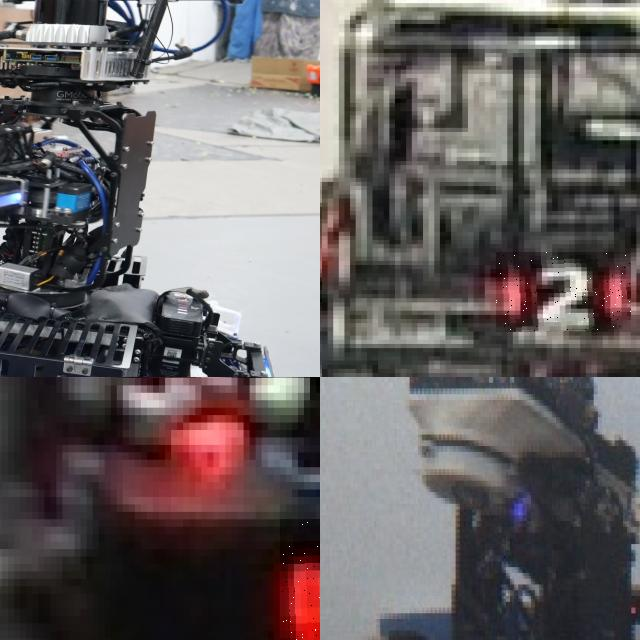R2: (496, 252, 631, 332)
R5: (104, 377, 249, 467)
